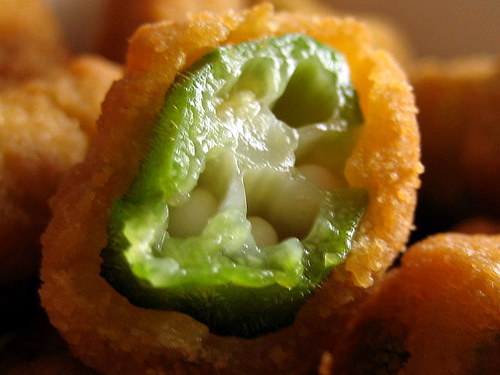okra: (106, 37, 366, 311)
